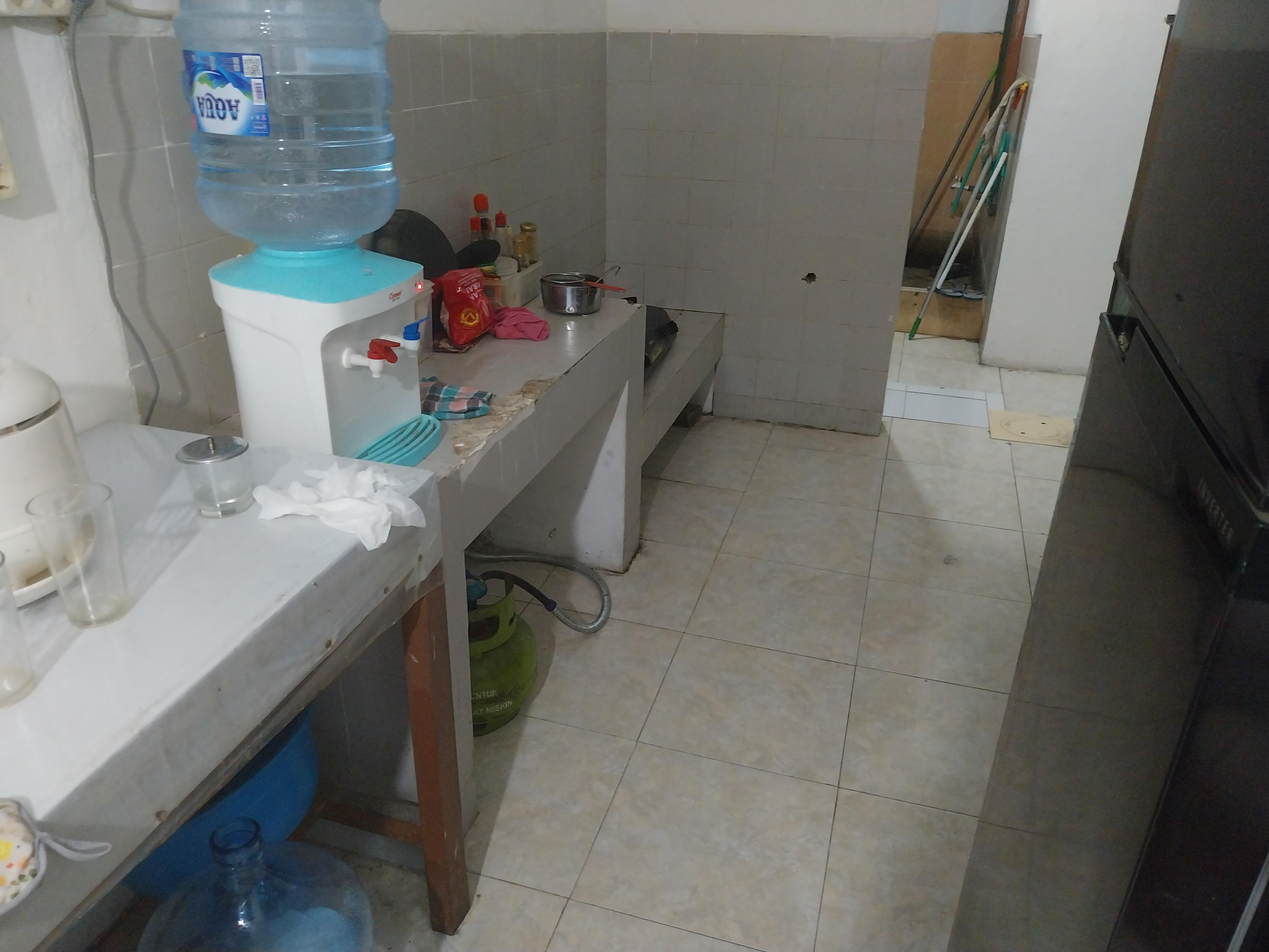refrigerator: (949, 0, 1269, 952), (1108, 90, 1113, 94)
stove-merged: (645, 306, 678, 383)
table: (0, 424, 469, 952), (247, 443, 334, 492)
towel: (416, 375, 494, 425), (493, 305, 550, 341)
